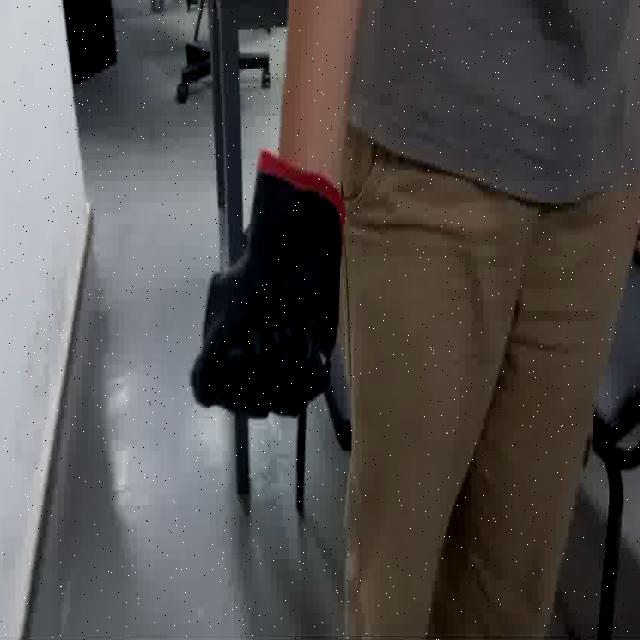Gloves: (192, 146, 370, 472)
